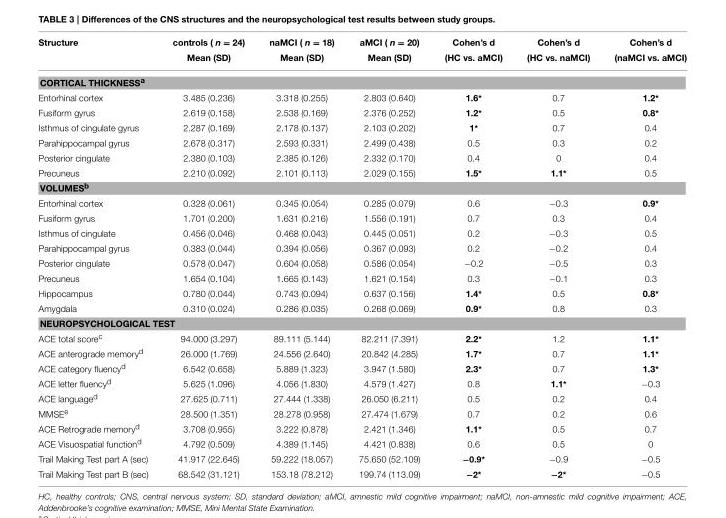table: (37, 37, 686, 478)
table column: (37, 37, 159, 478), (159, 37, 256, 478), (256, 37, 345, 478), (513, 37, 601, 478), (345, 37, 431, 478), (601, 37, 686, 478), (431, 37, 513, 478)
table column header: (37, 37, 686, 68)
table projected row header: (37, 68, 686, 90), (37, 179, 686, 195), (37, 315, 686, 329)
table row: (37, 68, 686, 90), (37, 49, 686, 68), (37, 179, 686, 195), (37, 329, 686, 345), (37, 435, 686, 451), (37, 90, 686, 105), (37, 105, 686, 120), (37, 120, 686, 135), (37, 135, 686, 150), (37, 150, 686, 165), (37, 195, 686, 210), (37, 210, 686, 225), (37, 225, 686, 240), (37, 240, 686, 255), (37, 255, 686, 270), (37, 270, 686, 285), (37, 285, 686, 300), (37, 300, 686, 315), (37, 345, 686, 360), (37, 360, 686, 375), (37, 375, 686, 390), (37, 390, 686, 405), (37, 405, 686, 420), (37, 420, 686, 435), (37, 451, 686, 466), (37, 165, 686, 179), (37, 315, 686, 329), (37, 37, 686, 49), (37, 466, 686, 478)
table spanning cell: (37, 37, 159, 68), (159, 37, 256, 68), (256, 37, 345, 68), (513, 37, 601, 68), (345, 37, 431, 68), (601, 37, 686, 68), (431, 37, 513, 68)
